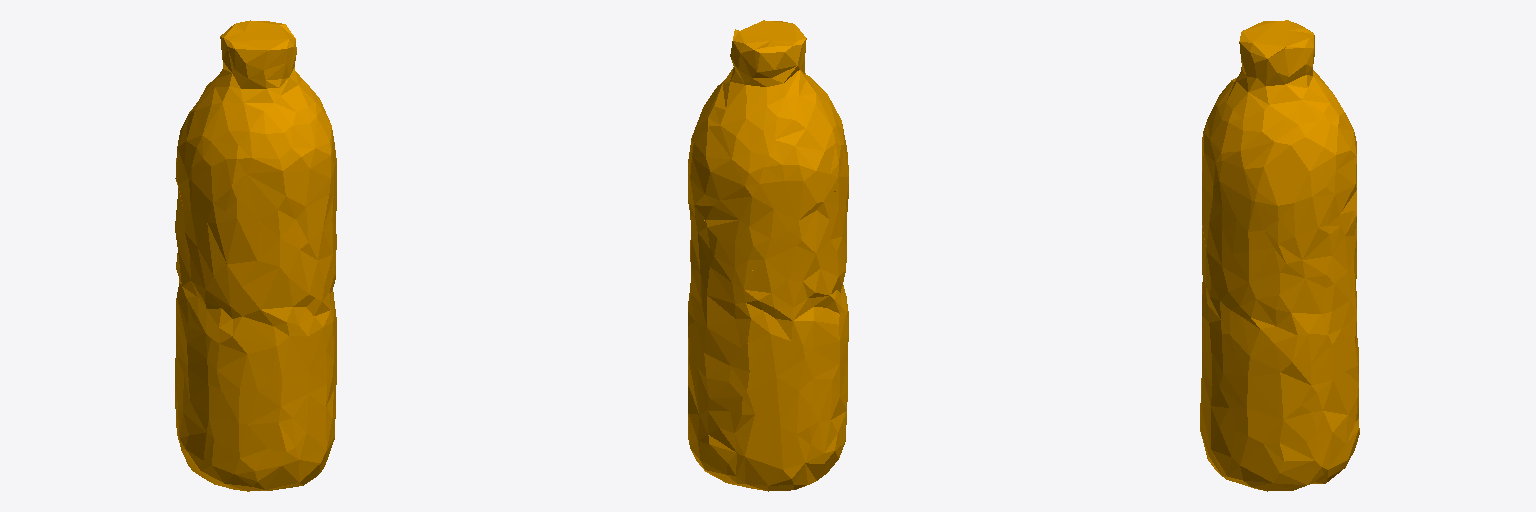
URDF robot description (plasticwaterbottle):
<robot name="plasticwaterbottle">
  <link name="plasticwaterbottle">
    <inertial>
      <origin xyz="0 0 0.0145"/>
      <mass value="0.1" />
      <inertia  ixx="0.0001" ixy="0.0"  ixz="0.0"  iyy="0.0001"  iyz="0.0"  izz="0.0001" />
    </inertial>
    <visual>
      <origin xyz="0 0 0.0145"/>
      <geometry>        
     <mesh filename="plasticwaterbottle.dae" scale="1 1 1"/>
    </geometry>
    </visual>
    <collision>
      <origin xyz="0 0 0.0145"/>
      <geometry>
        <box size="0.029 0.029 0.029"/>
      </geometry>
    </collision>
  </link>
  <gazebo reference="plasticwaterbottle">
    <material>Gazebo/Blue</material>
  </gazebo>
</robot>

--- What the picture shows (computed from the rendered views, not written in the file) ---
3 views of the same robot in one strip: view 1: azimuth 30°, elevation 25°; view 2: azimuth 150°, elevation 25°; view 3: azimuth 270°, elevation 25° (orthographic).
Model plasticwaterbottle with 1 links and 0 joints (none), rooted at plasticwaterbottle, posed every joint at zero.
Links seen in each view (by area): view 1: plasticwaterbottle; view 2: plasticwaterbottle; view 3: plasticwaterbottle.
Link boxes in pixels (left/top/right/bottom): plasticwaterbottle: left=175, top=20, right=336, bottom=491; plasticwaterbottle: left=688, top=20, right=848, bottom=491; plasticwaterbottle: left=1200, top=20, right=1359, bottom=491.
Size in the robot's own frame: 0.073 by 0.0715 by 0.2126 metres.
Meshes: 1 distinct files referenced, 1 mesh visuals loaded (1 Collada DAE).